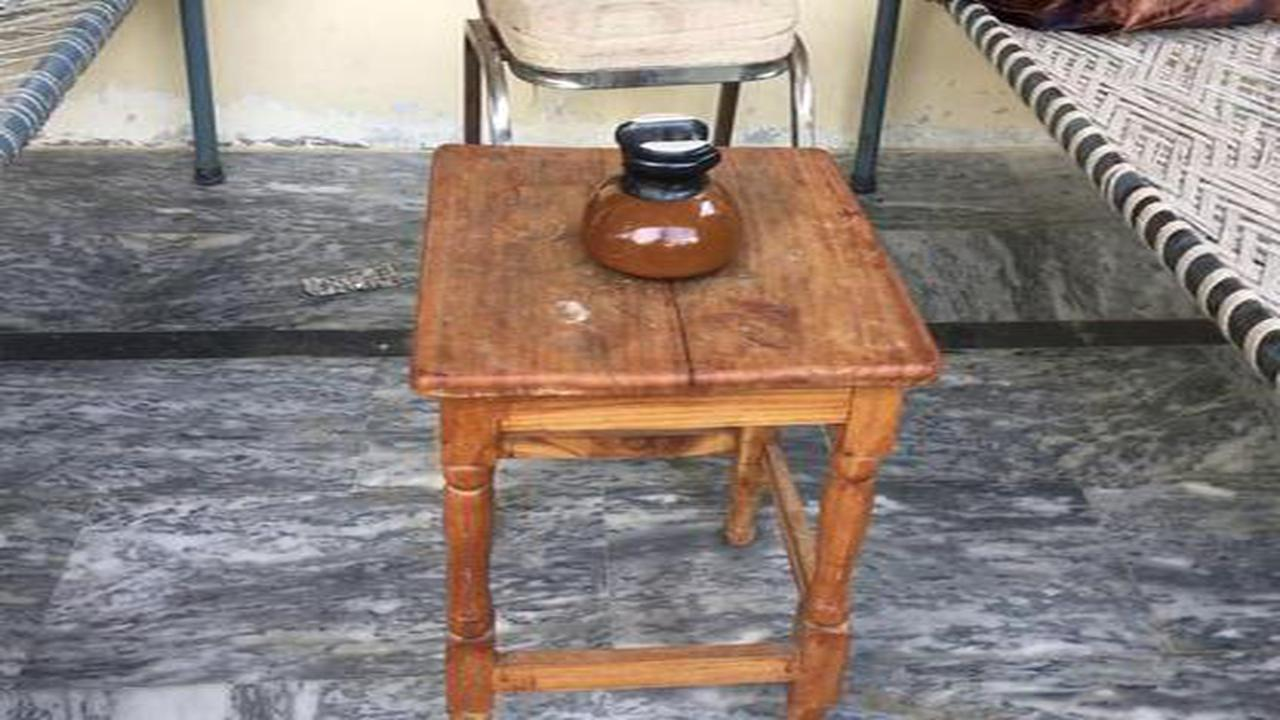insulator_pin: (554, 92, 764, 291)
